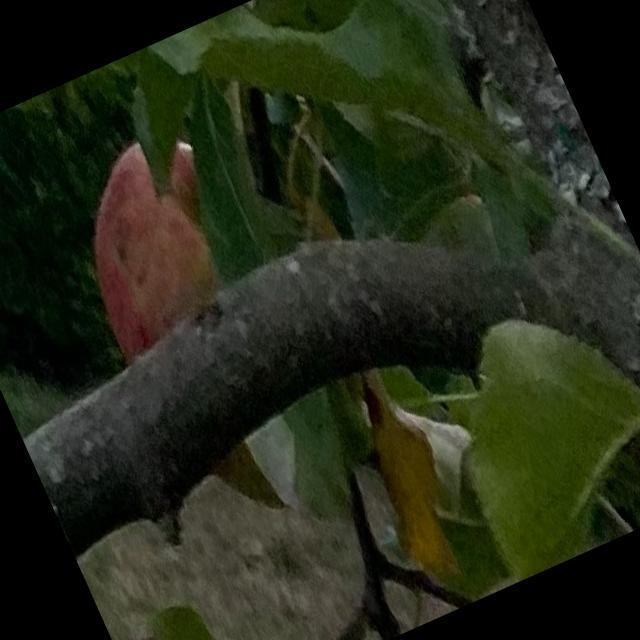100-_ripeness: (48, 122, 322, 496)
